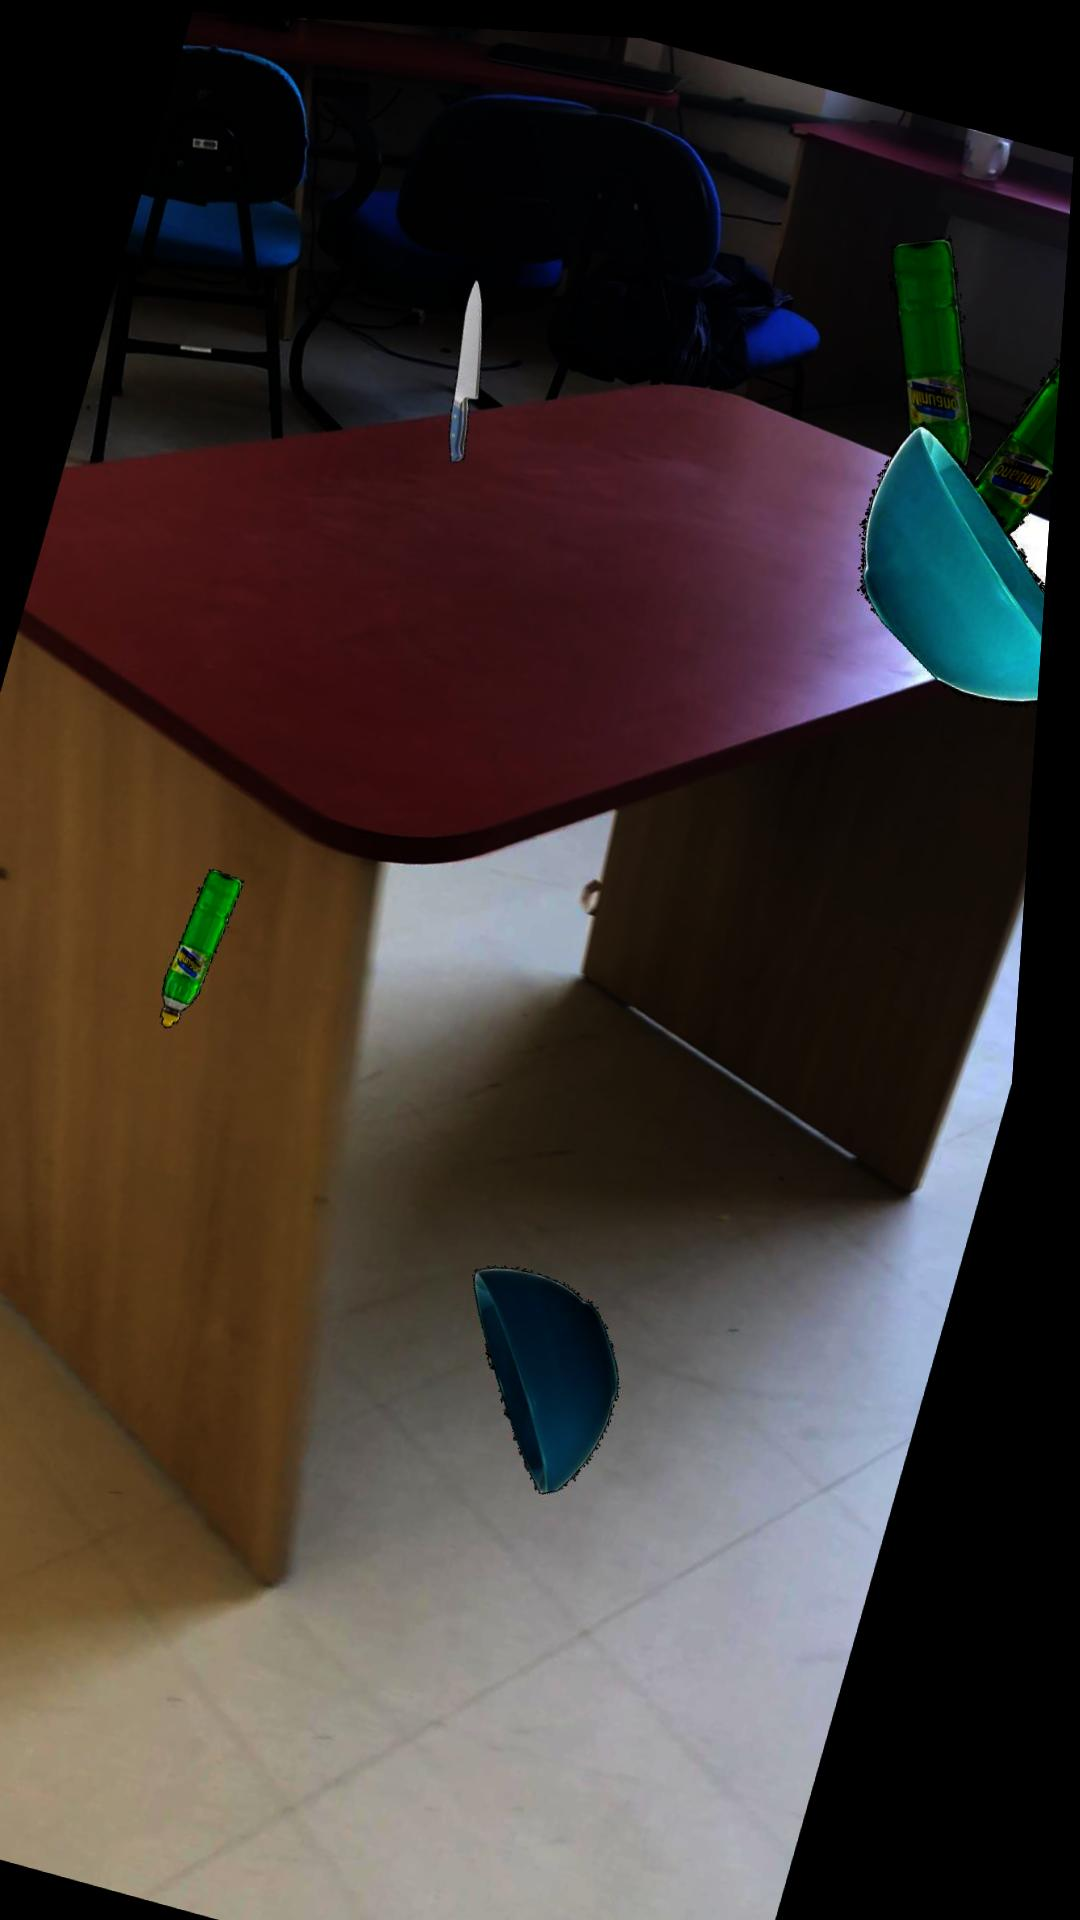bowl: (866, 408, 1053, 692), (489, 1258, 636, 1484)
cleaner: (893, 223, 977, 452), (978, 343, 1065, 520), (173, 865, 253, 1024)
knife: (453, 271, 485, 455)
